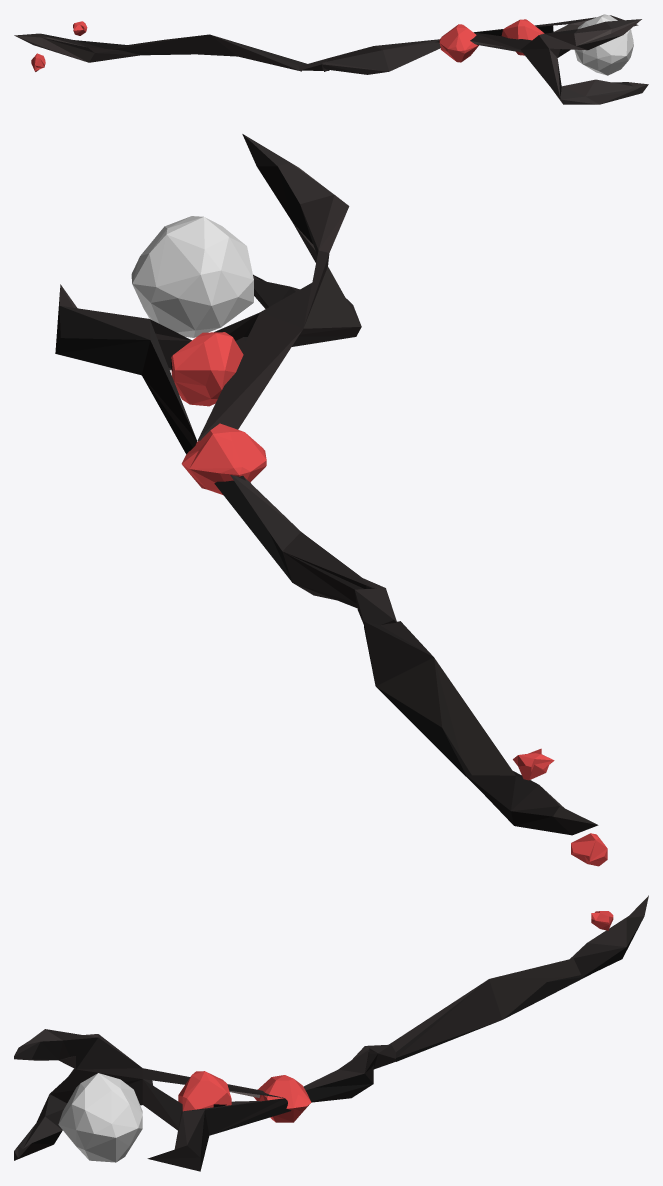
The model's file is Item Mystic smoke staff 2026-08-01_11-34-59.obj.
3 renders of one model, top to bottom at view 1: azimuth 30°, elevation 25°; view 2: azimuth 150°, elevation 25°; view 3: azimuth 270°, elevation 25°, orthographic. The views are drawn at different scales.
Visible parts, largest first — view 1: Item Mystic smoke staff 2026-08-01_11-34-59; view 2: Item Mystic smoke staff 2026-08-01_11-34-59; view 3: Item Mystic smoke staff 2026-08-01_11-34-59.
Boxes of the visible parts, x1,y1,x2,y2 form: Item Mystic smoke staff 2026-08-01_11-34-59: (14,14,648,104); Item Mystic smoke staff 2026-08-01_11-34-59: (55,134,607,866); Item Mystic smoke staff 2026-08-01_11-34-59: (14,895,648,1171).
Size of the model in its own units: 164 by 40 by 143.
